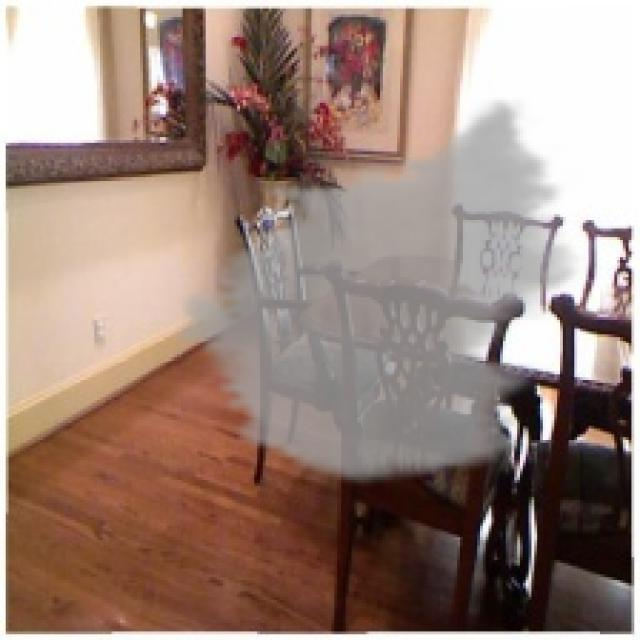Smoke: (166, 97, 592, 489)
